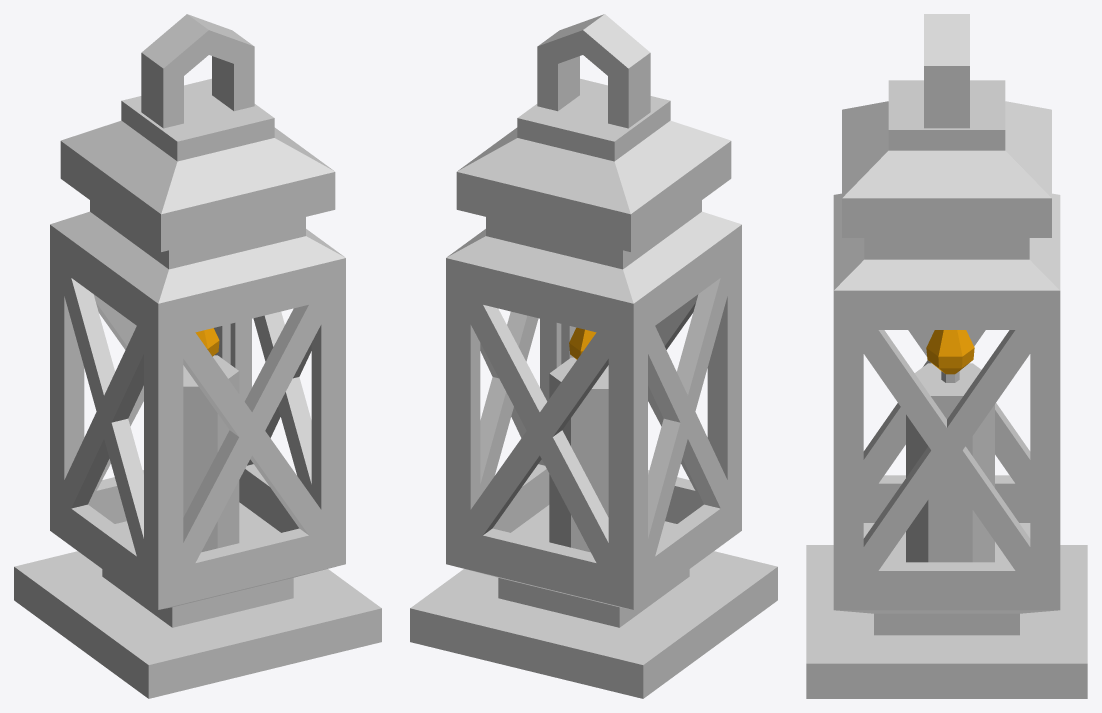
The model's file is NGF_Light_Standing_lamp.fbx.
The picture shows the model from 3 angles, left to right: view 1: azimuth 30°, elevation 25°; view 2: azimuth 150°, elevation 25°; view 3: azimuth 270°, elevation 25°; orthographic projection. The views are drawn at different scales.
Visible parts, largest first — view 1: NGF_Light_Standing_lamp, NGF_Light_Candle_large_03, NGF_Light_Candle_middle_03; view 2: NGF_Light_Standing_lamp, NGF_Light_Candle_large_03, NGF_Light_Candle_small_03; view 3: NGF_Light_Standing_lamp, NGF_Light_Candle_large_03, NGF_Light_Candle_fire_07, NGF_Light_Candle_middle_03.
Part boxes in pixels (x1,y1,x2,y2): NGF_Light_Standing_lamp: [14, 14, 381, 698]; NGF_Light_Candle_large_03: [183, 355, 239, 551]; NGF_Light_Candle_middle_03: [183, 460, 239, 551]; NGF_Light_Standing_lamp: [410, 14, 777, 698]; NGF_Light_Candle_large_03: [549, 357, 608, 552]; NGF_Light_Candle_small_03: [549, 501, 576, 547]; NGF_Light_Standing_lamp: [806, 14, 1087, 698]; NGF_Light_Candle_large_03: [906, 363, 994, 562]; NGF_Light_Candle_fire_07: [926, 330, 974, 374]; NGF_Light_Candle_middle_03: [906, 447, 994, 562].
Size of the model in its own units: 0.4344 by 1.07 by 0.4344.
Materials: 1 (1 with a texture image).
